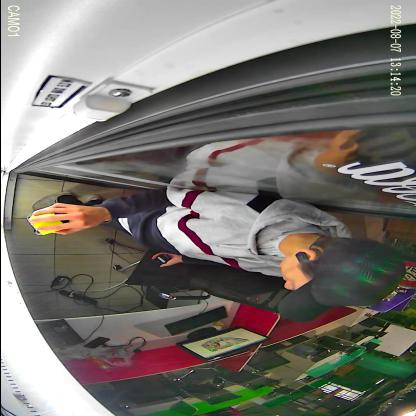yellow: (24, 204, 88, 235)
